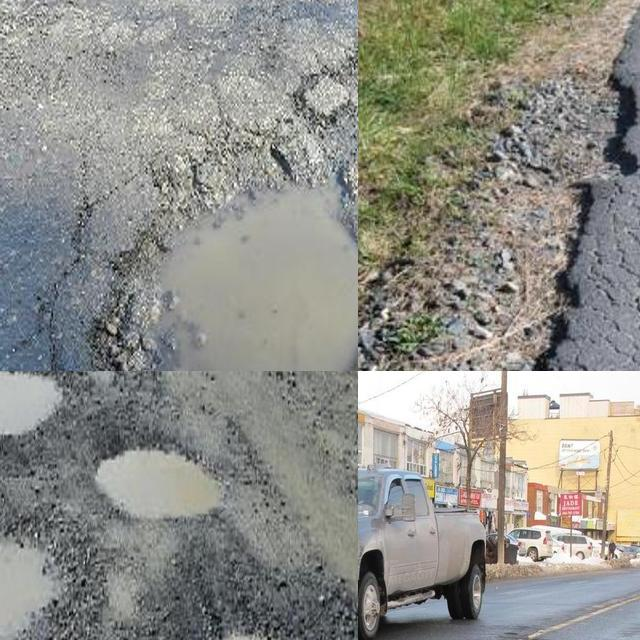Lubang: (112, 155, 358, 371), (80, 432, 253, 533), (0, 519, 79, 640), (0, 371, 79, 438)
Pinggir: (417, 57, 640, 371)
